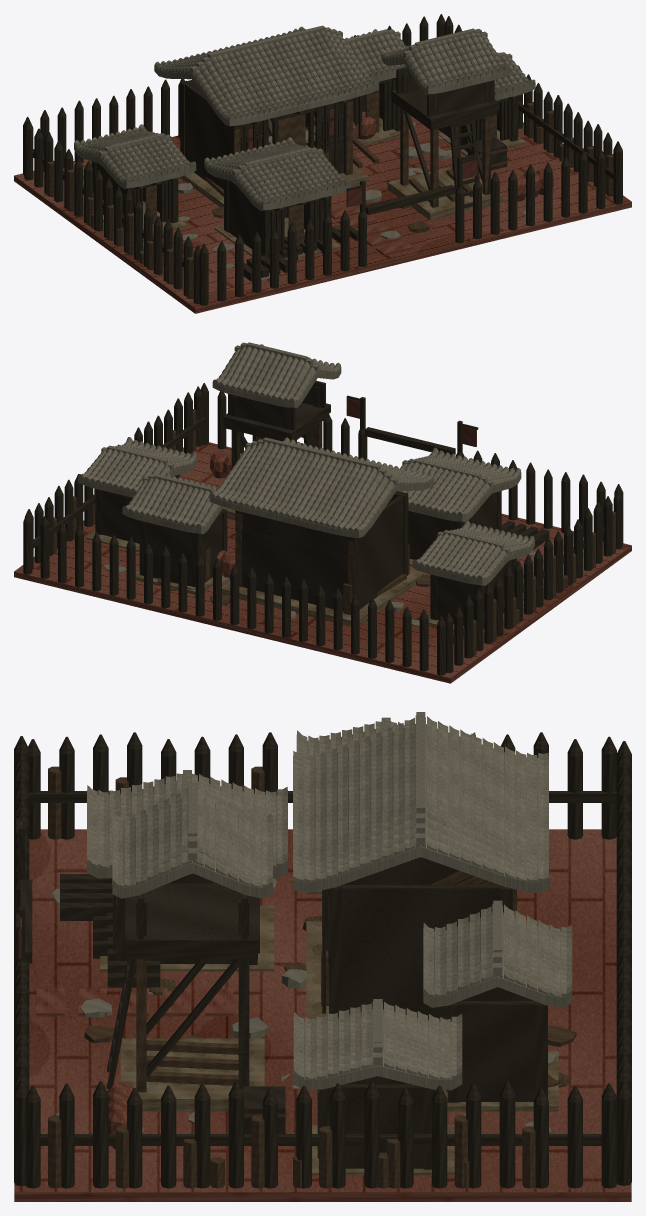
The picture shows the model from 3 angles, top to bottom: view 1: azimuth 30°, elevation 25°; view 2: azimuth 150°, elevation 25°; view 3: azimuth 270°, elevation 25°; orthographic projection. The views are drawn at different scales.
Visible parts, largest first — view 1: garrison_part_0001, garrison_part_0004, garrison_part_0006, garrison_part_0000, garrison_part_0005, garrison_part_0003, garrison_part_0002; view 2: garrison_part_0004, garrison_part_0006, garrison_part_0001, garrison_part_0005, garrison_part_0000, garrison_part_0003, garrison_part_0002; view 3: garrison_part_0000, garrison_part_0005, garrison_part_0004, garrison_part_0001, garrison_part_0006, garrison_part_0003, garrison_part_0002.
Boxes of the visible parts, left/top/right/bottom form: garrison_part_0001: left=23, top=14, right=622, bottom=303; garrison_part_0004: left=24, top=25, right=613, bottom=301; garrison_part_0006: left=54, top=23, right=618, bottom=305; garrison_part_0000: left=14, top=115, right=631, bottom=313; garrison_part_0005: left=44, top=16, right=612, bottom=292; garrison_part_0003: left=47, top=100, right=613, bottom=299; garrison_part_0002: left=66, top=125, right=563, bottom=264; garrison_part_0004: left=32, top=342, right=612, bottom=672; garrison_part_0006: left=34, top=342, right=623, bottom=666; garrison_part_0001: left=23, top=344, right=622, bottom=675; garrison_part_0005: left=24, top=345, right=592, bottom=662; garrison_part_0000: left=14, top=442, right=631, bottom=683; garrison_part_0003: left=53, top=409, right=615, bottom=655; garrison_part_0002: left=73, top=523, right=568, bottom=641; garrison_part_0000: left=14, top=829, right=631, bottom=1201; garrison_part_0005: left=14, top=715, right=631, bottom=1188; garrison_part_0004: left=14, top=716, right=631, bottom=1188; garrison_part_0001: left=14, top=712, right=631, bottom=1188; garrison_part_0006: left=14, top=717, right=631, bottom=1188; garrison_part_0003: left=48, top=766, right=535, bottom=1188; garrison_part_0002: left=80, top=889, right=576, bottom=1188.
Size of the model in its own units: 1140 by 414 by 820.
